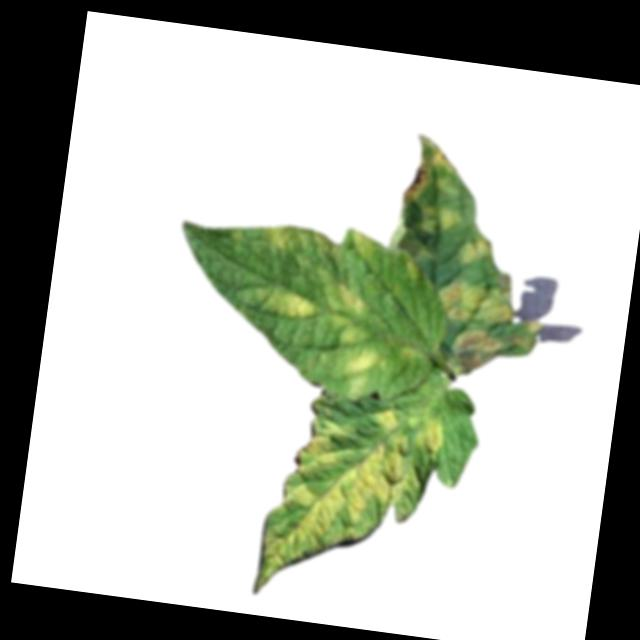Leaf_Mold: (253, 393, 444, 615), (434, 263, 520, 330), (402, 130, 467, 207), (449, 327, 505, 381), (341, 346, 383, 403), (326, 277, 378, 320), (344, 227, 383, 266), (420, 203, 462, 238), (328, 316, 373, 348), (275, 289, 316, 321), (460, 230, 495, 266), (268, 224, 293, 252)
